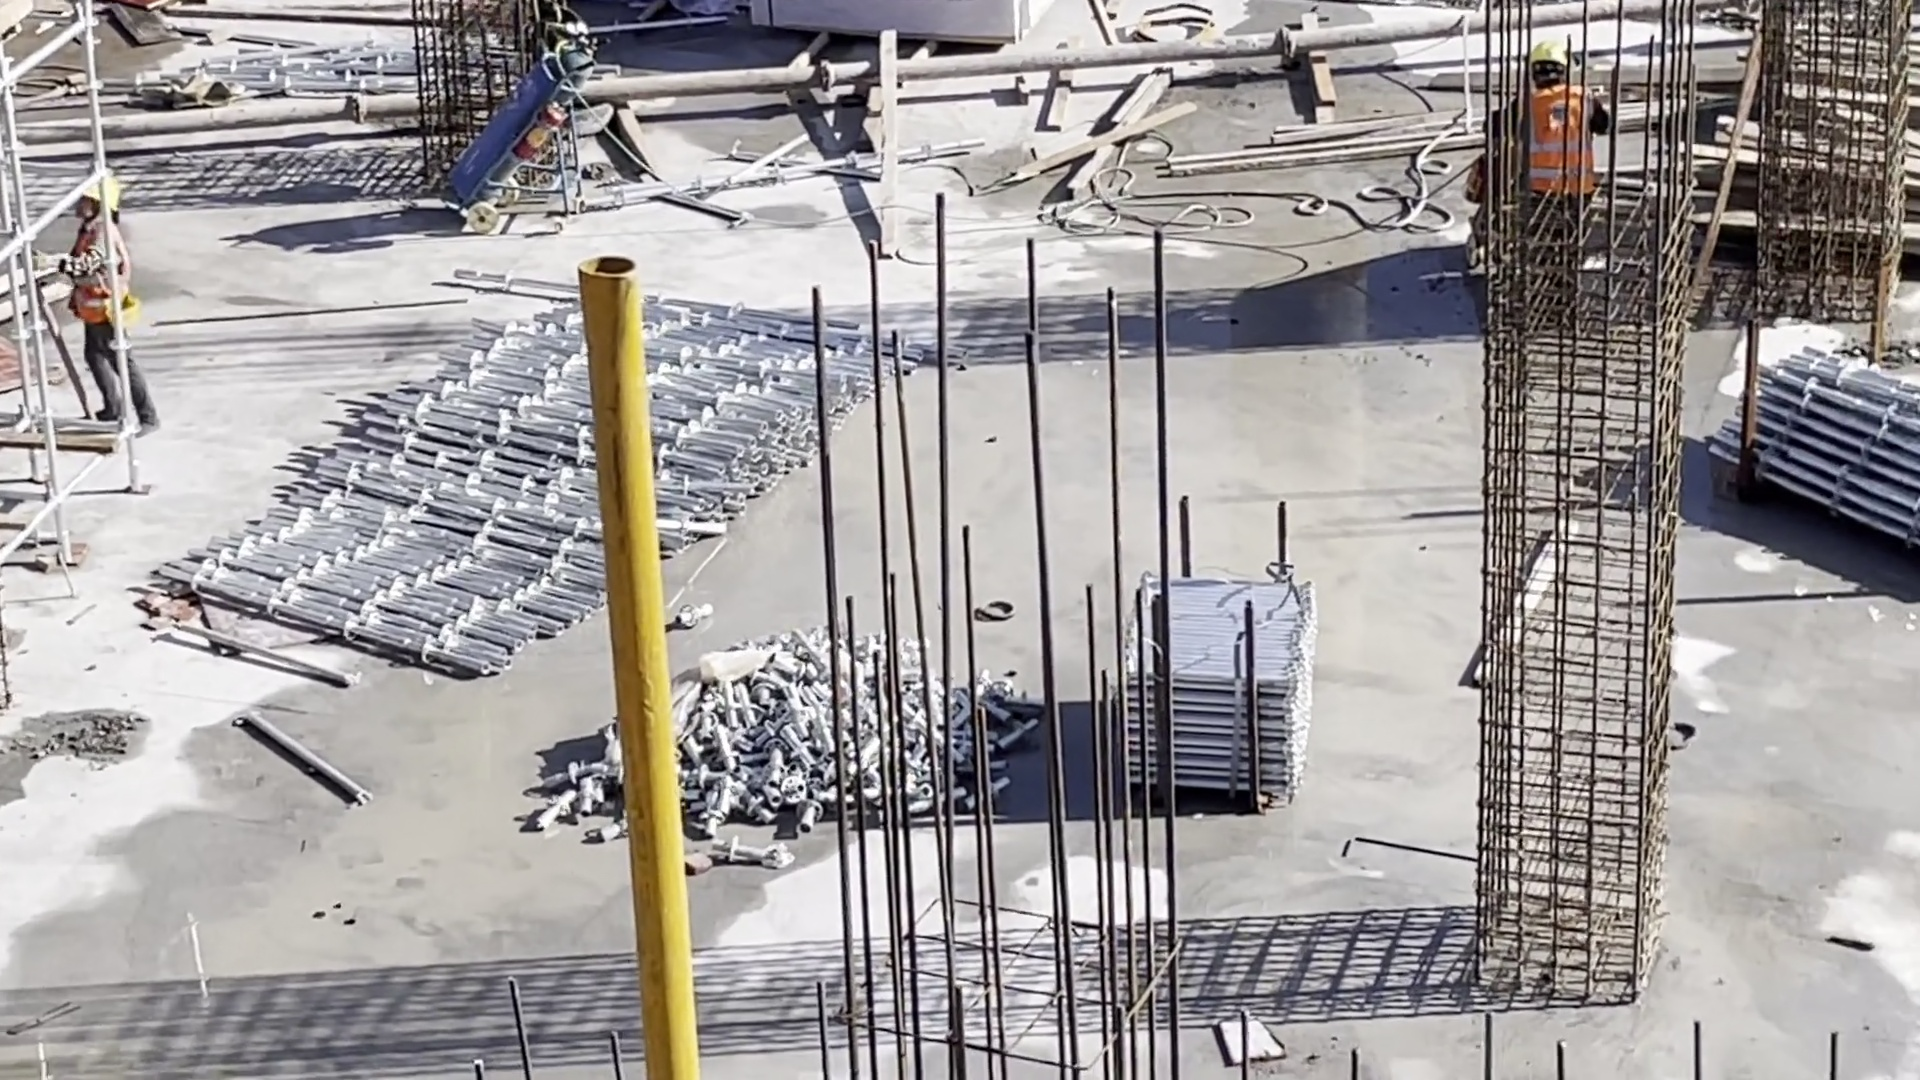helmet: (1529, 45, 1567, 74)
person: (1496, 45, 1610, 286), (62, 185, 163, 431)
scaffold: (155, 271, 967, 679), (1125, 568, 1317, 812), (1706, 338, 1920, 552)
vest: (1521, 83, 1602, 208)
